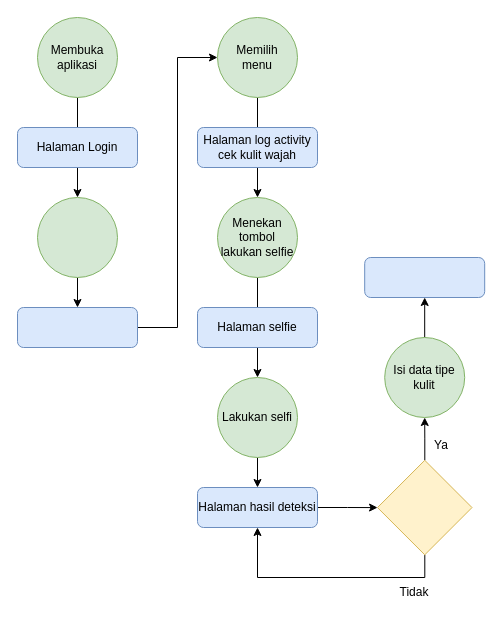
This 503x625 diagram has some shape labels left out. The centre of each missing label's shape, as x and y in pixels:
"Dapatkan rekomendasi ?" belongs at point (424, 507).
"Halaman hasil rekomendasi" belongs at point (424, 277).
"Halaman Utama" belongs at point (77, 327).
"Proses login" belongs at point (77, 237).
